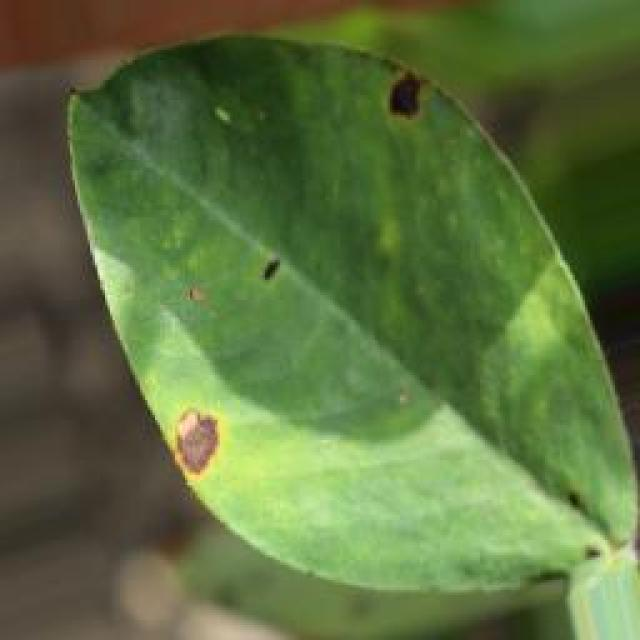Yellowish: (113, 356, 261, 492), (343, 47, 453, 174), (235, 226, 340, 318), (146, 276, 225, 342)
